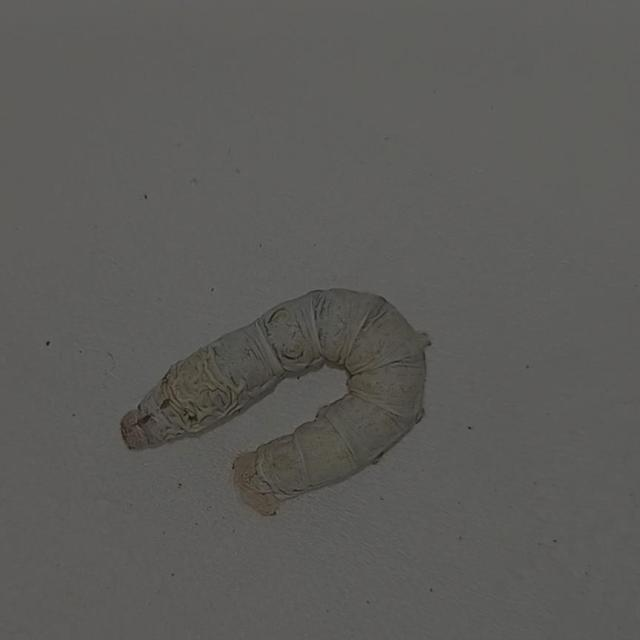Healthy: (92, 221, 476, 568)
